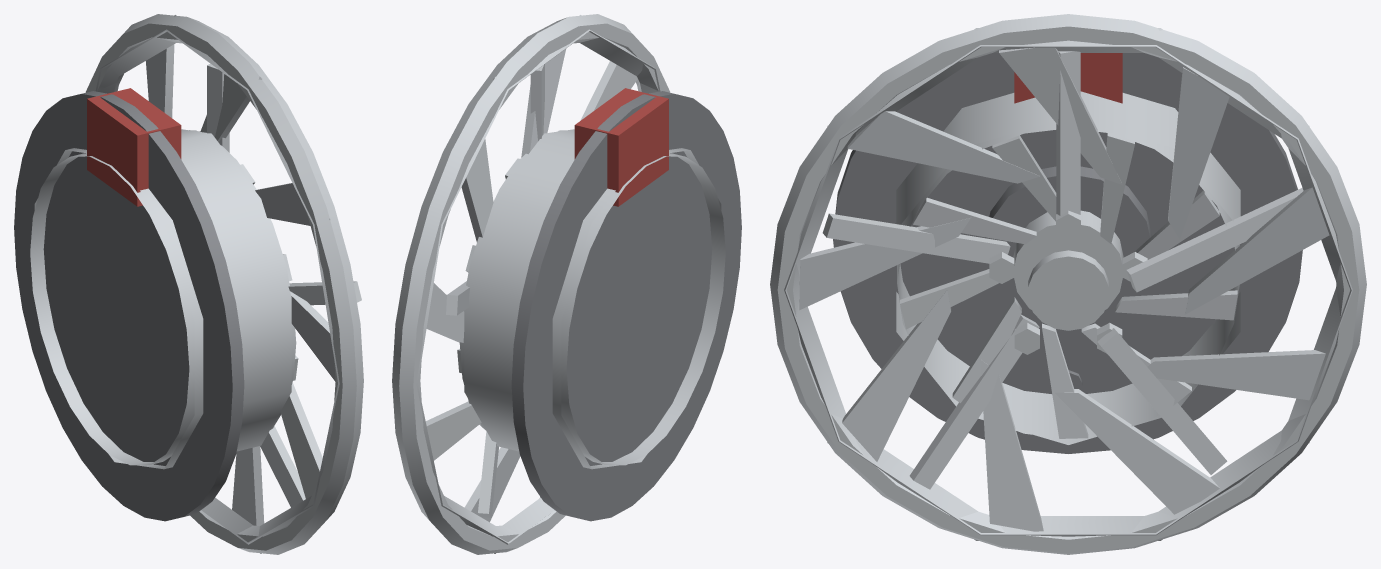
File: wh-blade.glb
The picture shows the model from 3 angles, left to right: view 1: azimuth 30°, elevation 25°; view 2: azimuth 150°, elevation 25°; view 3: azimuth 270°, elevation 25°; orthographic projection. The views are drawn at different scales.
Visible parts, largest first — view 1: Rotor, Chrome, ChromeLOD, Caliper; view 2: Rotor, Chrome, ChromeLOD, Caliper; view 3: Chrome, Rotor, ChromeLOD, Caliper.
Part boxes in pixels (x1,y1,x2,y2): Rotor: [14, 91, 244, 521]; Chrome: [30, 14, 363, 554]; ChromeLOD: [34, 15, 361, 553]; Caliper: [87, 88, 181, 206]; Rotor: [511, 91, 741, 521]; Chrome: [392, 14, 725, 554]; ChromeLOD: [416, 15, 721, 553]; Caliper: [574, 88, 668, 206]; Chrome: [770, 14, 1366, 554]; Rotor: [833, 53, 1302, 453]; ChromeLOD: [784, 28, 1352, 540]; Caliper: [1014, 53, 1122, 103].
Bounding box in the file's own units: 0.1441 × 0.4945 × 0.4945.
